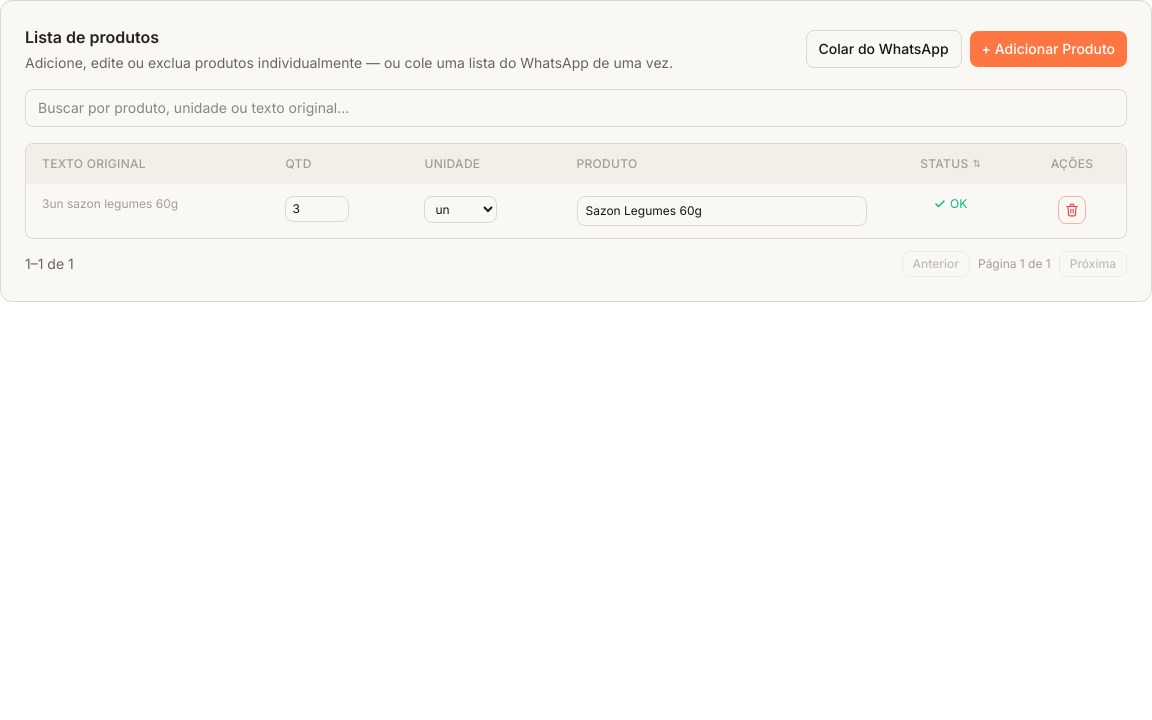
Test: GridProdutosSection — excluir › erro ao excluir mostra mensagem de fallback na coluna Status
The width and height of the screenshot is (1152, 720).
Click the button named "Excluir". click: (1072, 210)
box: [1058,196,1086,224]
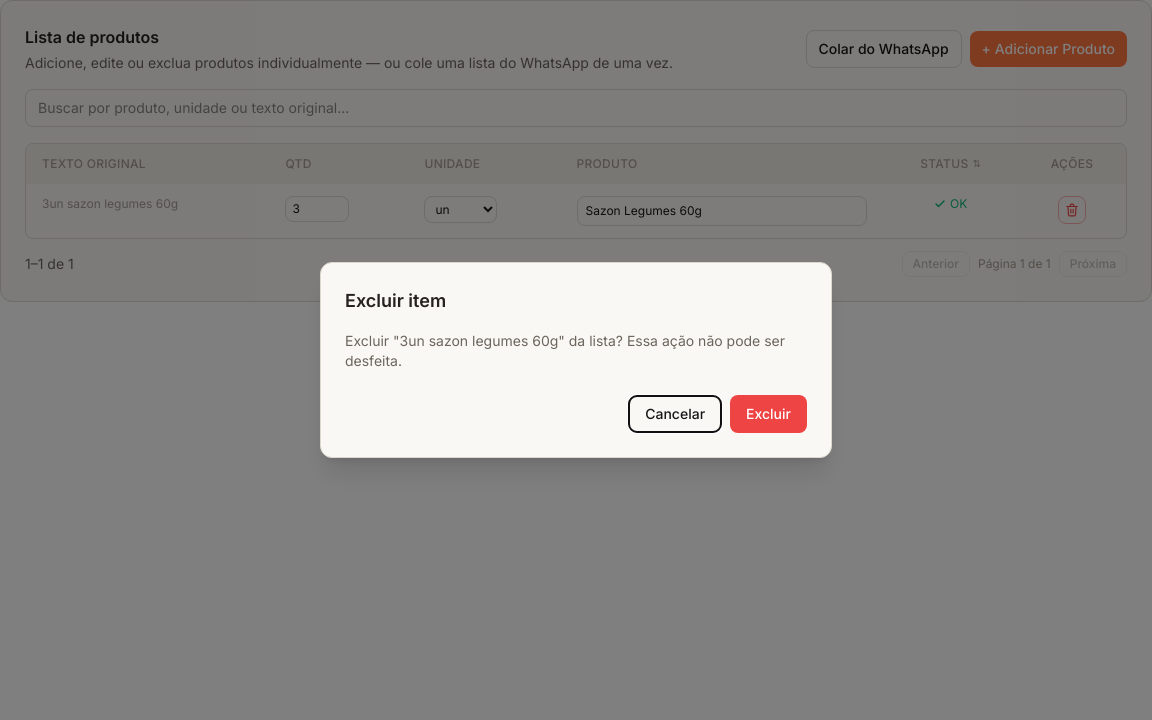
Click the button "Excluir". click: (769, 414)
box: [730,395,807,433]
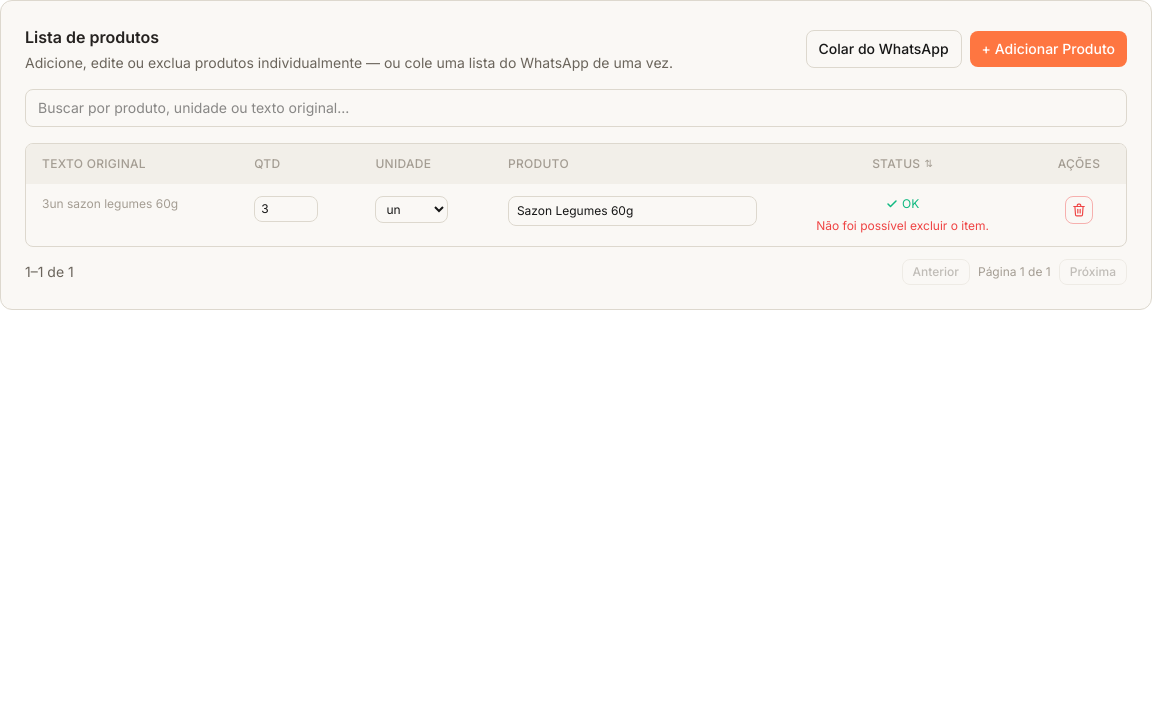
Check: the text "Não foi possível excluir o item." is shown, box [816,218,989,233]
